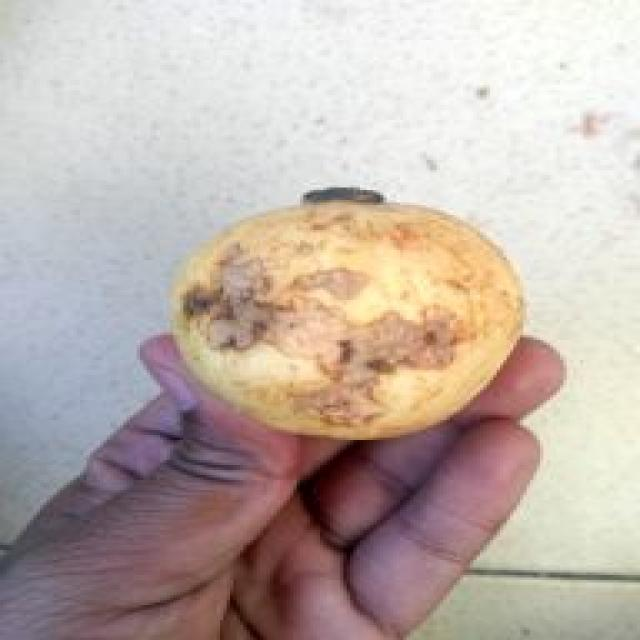Bad_Guava: (173, 191, 523, 439)
